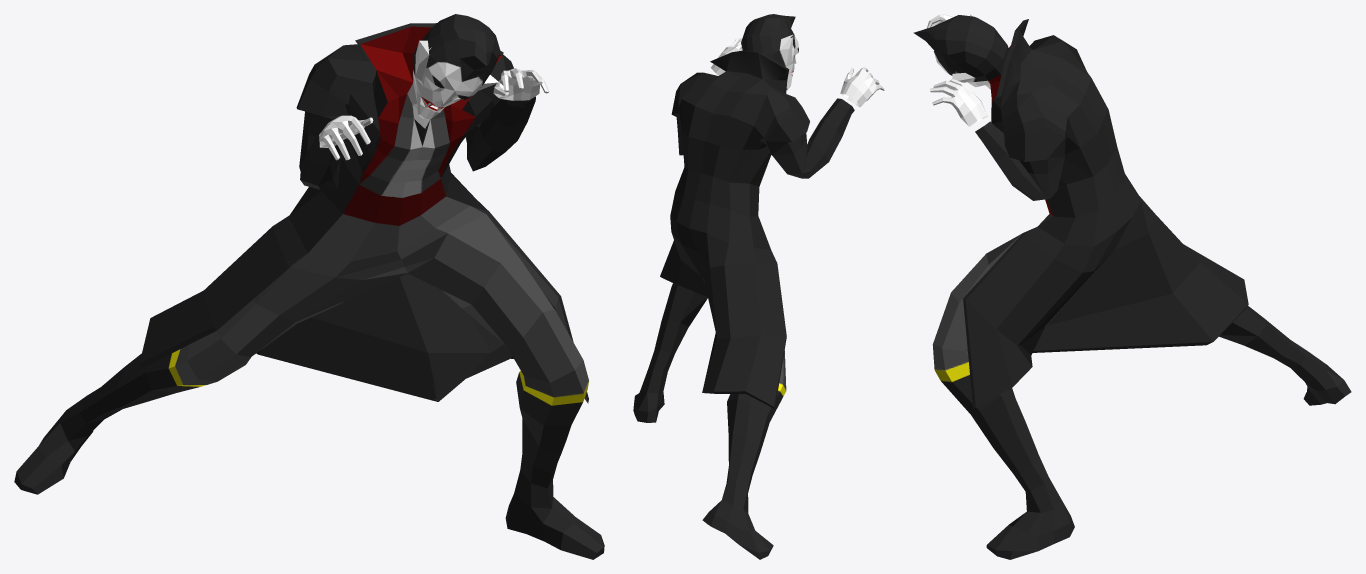
File: VampireAttack(39).obj
3 renders of one model, left to right at view 1: azimuth 30°, elevation 25°; view 2: azimuth 150°, elevation 25°; view 3: azimuth 270°, elevation 25°, orthographic. The views are drawn at different scales.
Parts seen in each view (by area): view 1: Plane002; view 2: Plane002; view 3: Plane002.
Part boxes in pixels (box(x1,y1,x2,y2)): Plane002: box(14, 14, 604, 559); Plane002: box(633, 14, 884, 559); Plane002: box(913, 14, 1351, 559).
Size of the model in its own units: 186 by 267 by 223.
